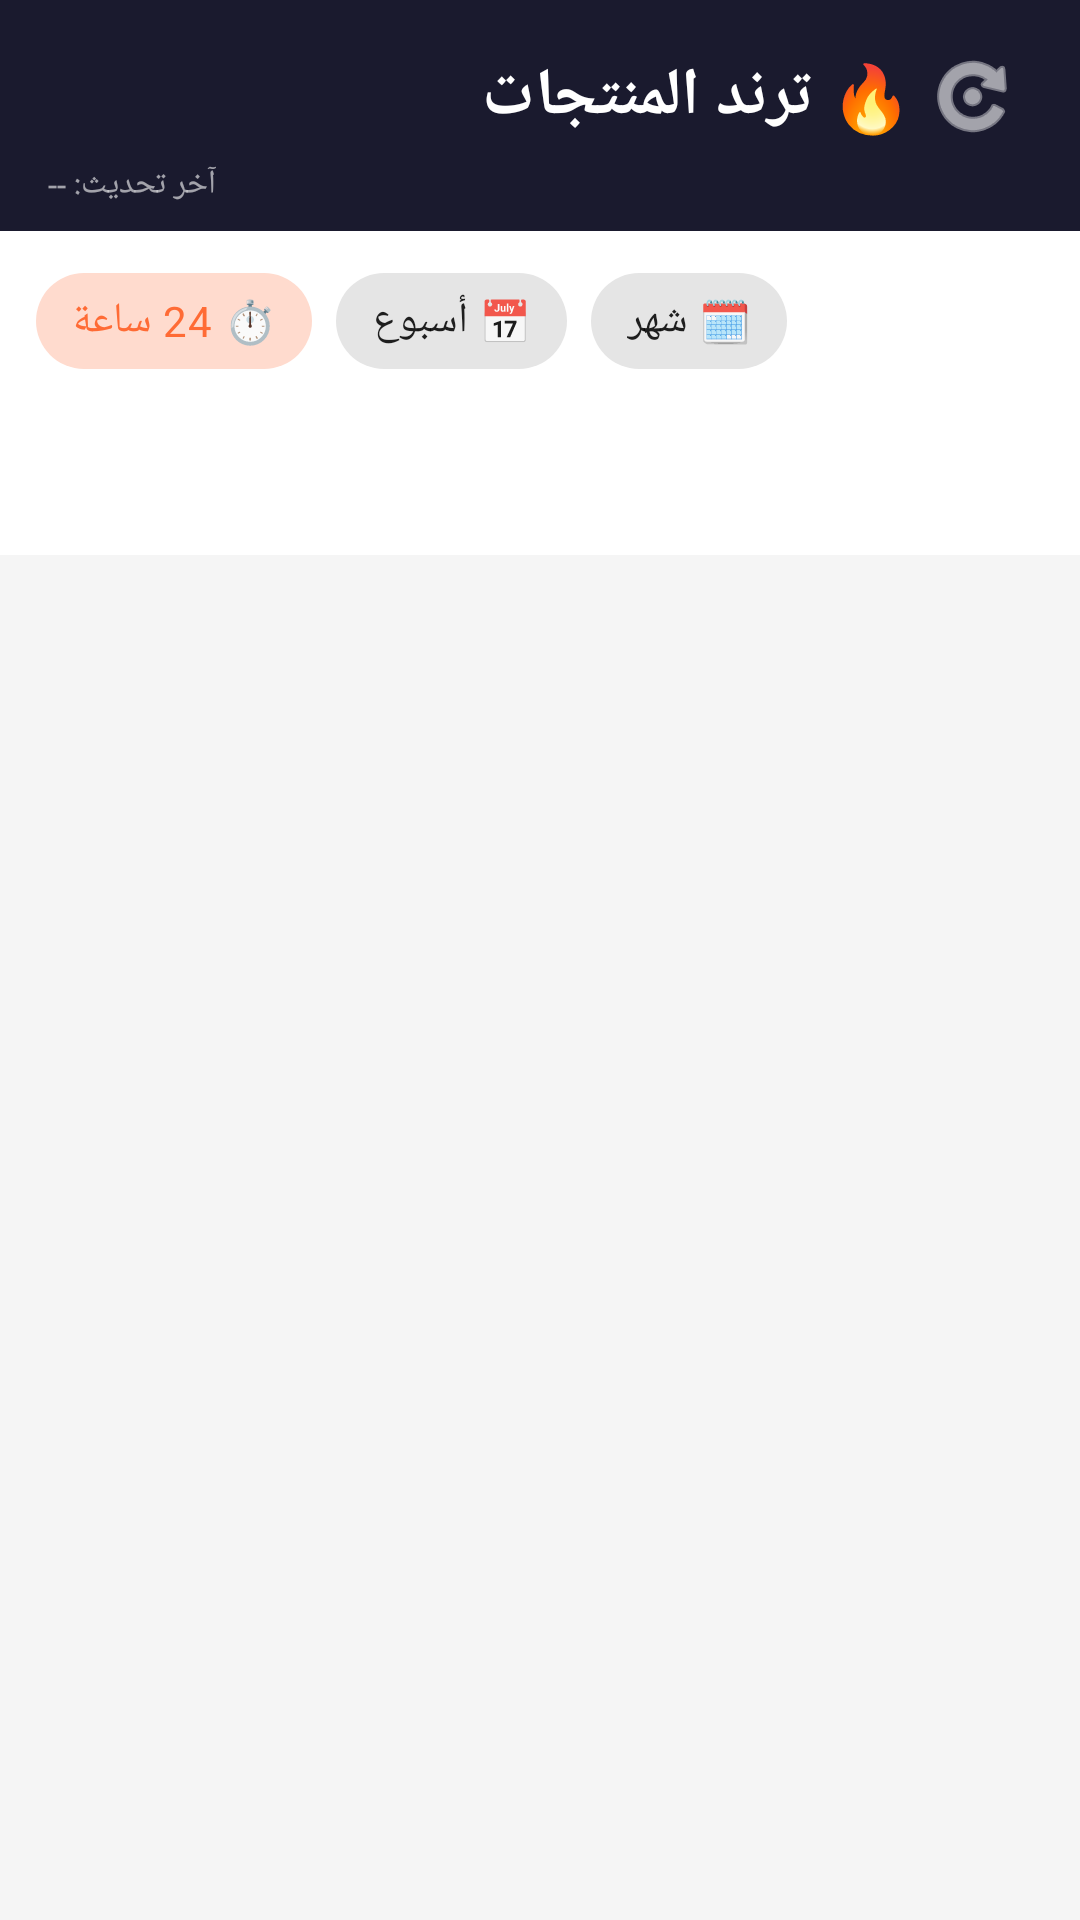

Icon bounding boxes for this 1080w x 1920h phone screenshot, format box=[x1, y1, x2, y2]:
تحديث: box=[937, 61, 1007, 132]
